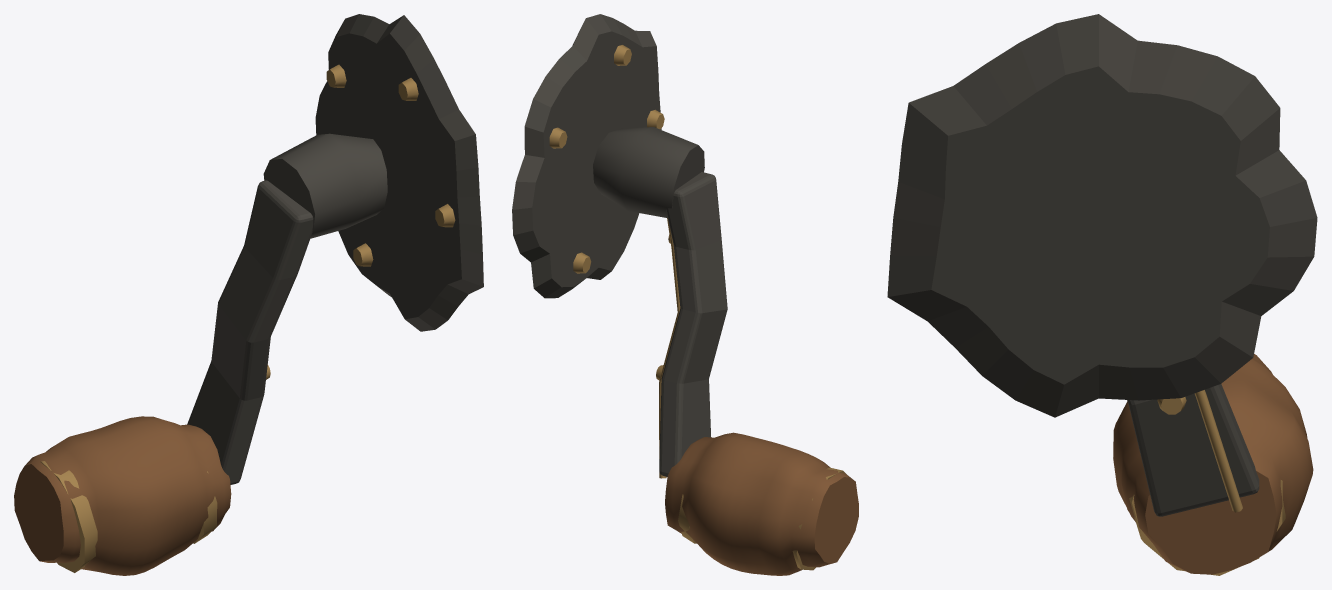
Rendered from merchant_crank.fbx.
3 renders of one model, left to right at view 1: azimuth 30°, elevation 25°; view 2: azimuth 150°, elevation 25°; view 3: azimuth 270°, elevation 25°, orthographic. The views are drawn at different scales.
Parts seen in each view (by area): view 1: merchant_crank_ForgedIron, Handle_DarkWood, merchant_crank_Brass; view 2: merchant_crank_ForgedIron, Handle_DarkWood, merchant_crank_Brass; view 3: merchant_crank_ForgedIron, Handle_DarkWood, merchant_crank_Brass.
Boxes of the visible parts, bbox=[...] form: merchant_crank_ForgedIron: bbox=[187, 14, 483, 484]; Handle_DarkWood: bbox=[14, 416, 231, 575]; merchant_crank_Brass: bbox=[40, 64, 455, 572]; merchant_crank_ForgedIron: bbox=[512, 14, 727, 476]; Handle_DarkWood: bbox=[665, 432, 858, 575]; merchant_crank_Brass: bbox=[549, 45, 846, 570]; merchant_crank_ForgedIron: bbox=[887, 14, 1317, 516]; Handle_DarkWood: bbox=[1113, 354, 1313, 574]; merchant_crank_Brass: bbox=[1129, 390, 1285, 575].
Size of the model in its own units: 14.1 by 20.93 by 11.76.
